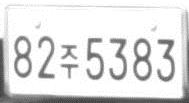2: (36, 34, 56, 78)
3: (108, 37, 128, 80), (155, 39, 175, 82)
5: (86, 37, 104, 80)
8: (132, 38, 152, 81), (13, 35, 32, 77)
주: (59, 43, 78, 80)
